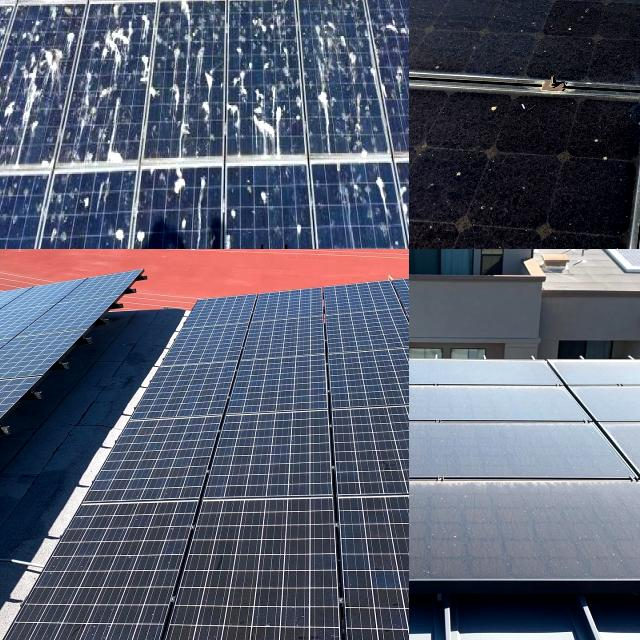bird: (314, 13, 354, 131), (34, 13, 82, 95), (242, 72, 292, 146), (102, 88, 138, 160), (99, 13, 138, 79), (167, 42, 195, 129), (304, 0, 343, 50), (238, 0, 282, 41), (0, 83, 23, 159), (358, 0, 403, 35), (175, 0, 213, 40), (0, 40, 16, 132), (200, 48, 218, 129), (255, 171, 280, 221), (286, 210, 315, 249), (0, 202, 22, 249), (224, 198, 254, 230), (135, 209, 157, 249), (74, 190, 99, 223), (166, 166, 189, 200), (371, 233, 409, 249), (384, 19, 409, 43), (398, 92, 409, 137)
dust: (409, 105, 634, 249), (409, 493, 640, 573), (409, 0, 640, 74), (409, 423, 605, 469), (409, 486, 448, 575), (409, 423, 464, 462)
